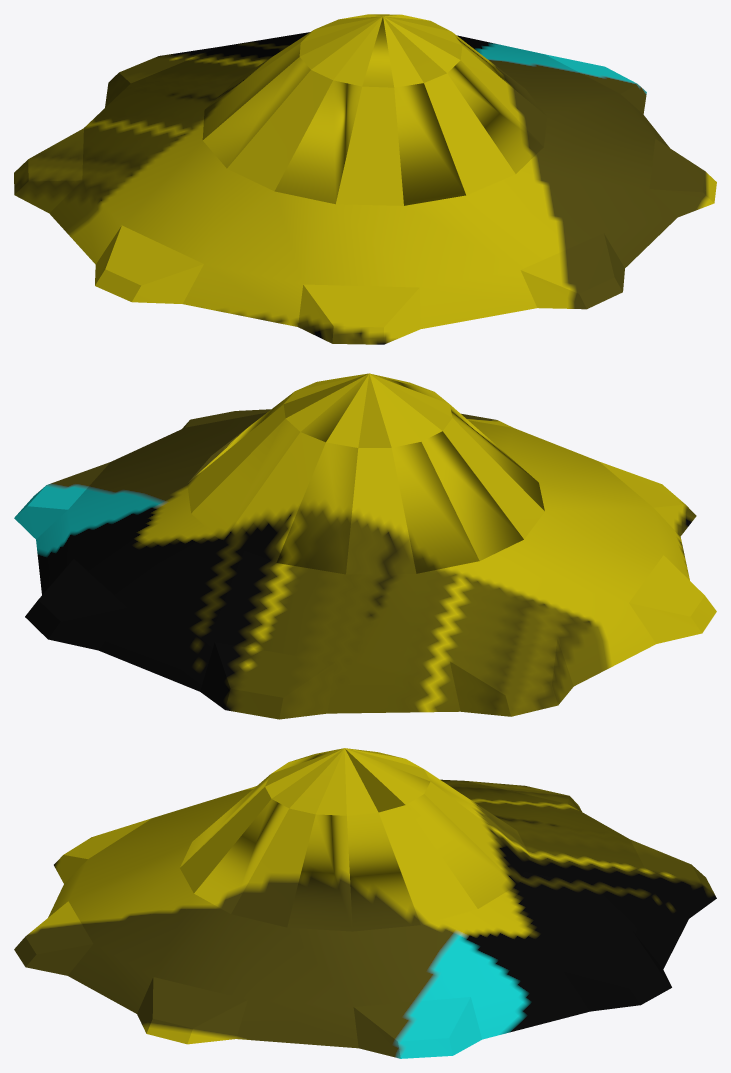
The model's file is mine 3.FBX.
3 renders of one model, top to bottom at view 1: azimuth 30°, elevation 25°; view 2: azimuth 150°, elevation 25°; view 3: azimuth 270°, elevation 25°, orthographic. The views are drawn at different scales.
Visible parts, largest first — view 1: Sphere001; view 2: Sphere001; view 3: Sphere001.
Boxes of the visible parts, <box> form: Sphere001: <box>14,14,716,344</box>; Sphere001: <box>14,373,716,719</box>; Sphere001: <box>14,748,716,1058</box>.
Bounding box in the file's own units: 80.88 × 24.36 × 82.57.
